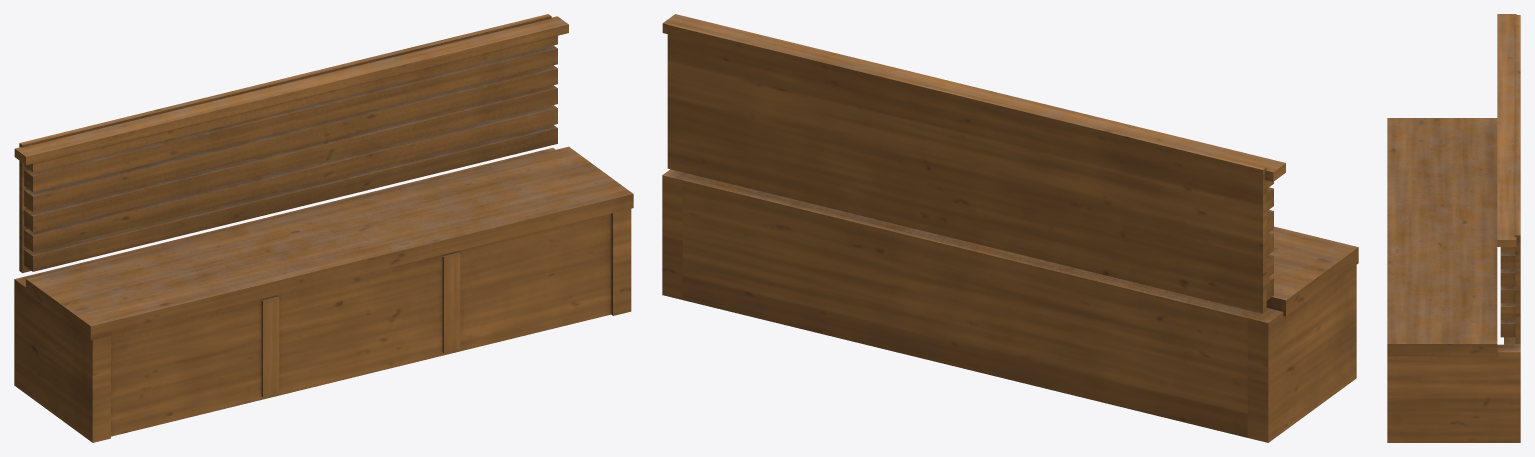
File: H_HallBench_8.fbx
3 renders of one model, left to right at view 1: azimuth 30°, elevation 25°; view 2: azimuth 150°, elevation 25°; view 3: azimuth 270°, elevation 25°, orthographic. The views are drawn at different scales.
Parts seen in each view (by area): view 1: H_HallBench_8; view 2: H_HallBench_8; view 3: H_HallBench_8.
Boxes of the visible parts, left/top/right/bottom form: H_HallBench_8: left=14, top=14, right=633, bottom=442; H_HallBench_8: left=662, top=14, right=1358, bottom=442; H_HallBench_8: left=1387, top=14, right=1520, bottom=442.
Size of the model in its own units: 800 by 340 by 200.
Materials: 1 (1 with a texture image).
